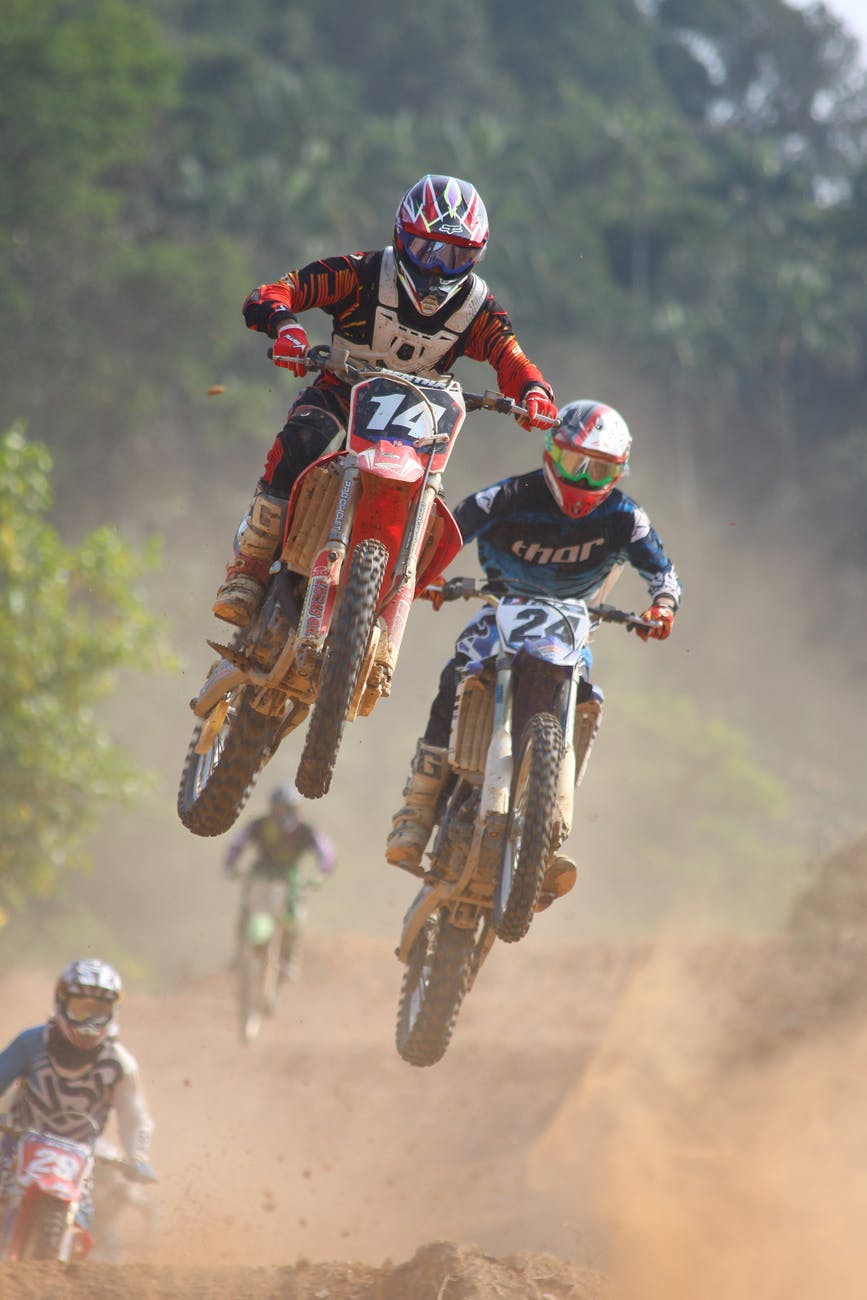helmet: (394, 179, 502, 317), (548, 403, 618, 513)
